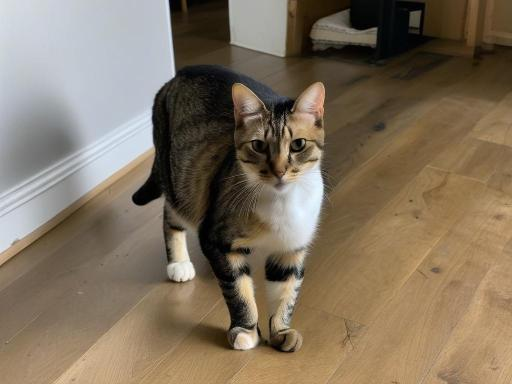cat_standing: (133, 64, 325, 352)
